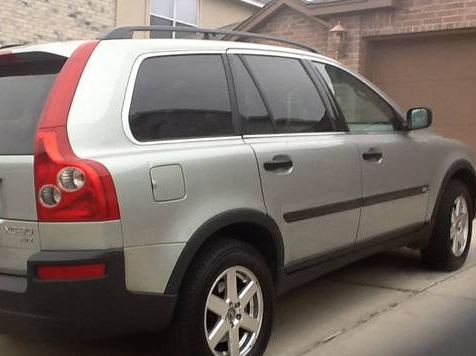volvo: (1, 22, 476, 354)
